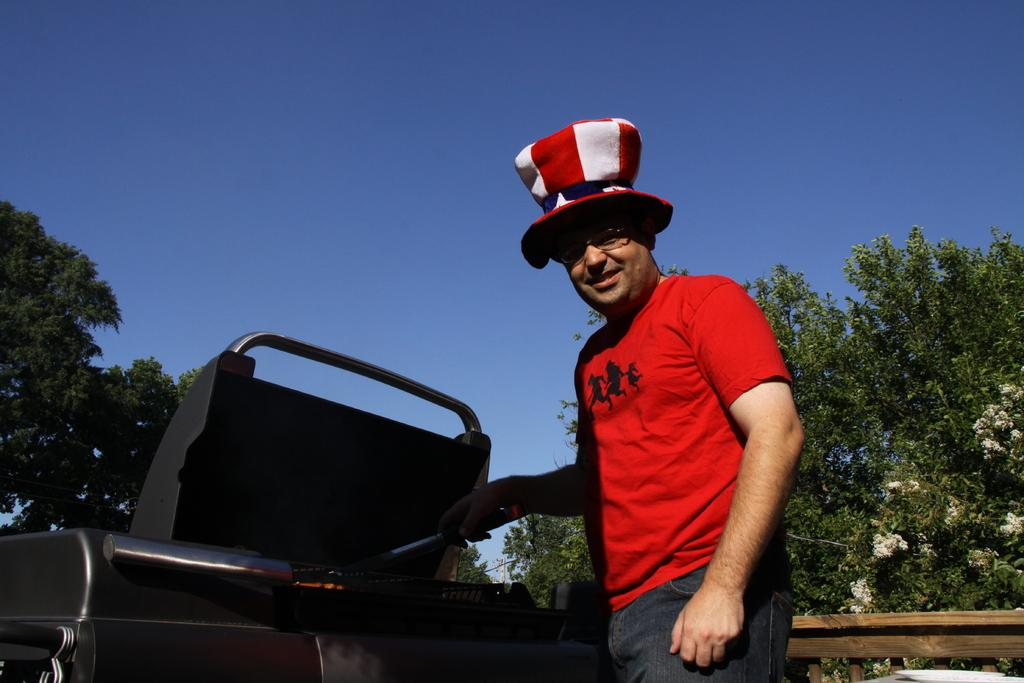Hat: (518, 116, 676, 270)
